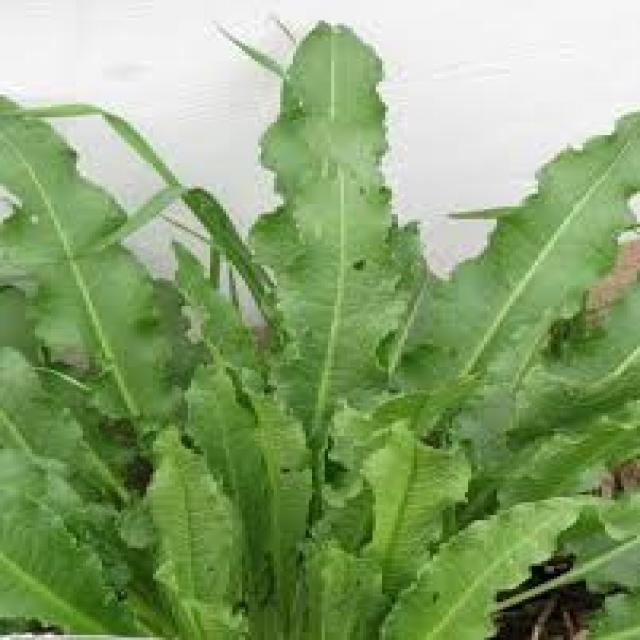organic waste: (19, 53, 640, 640)
